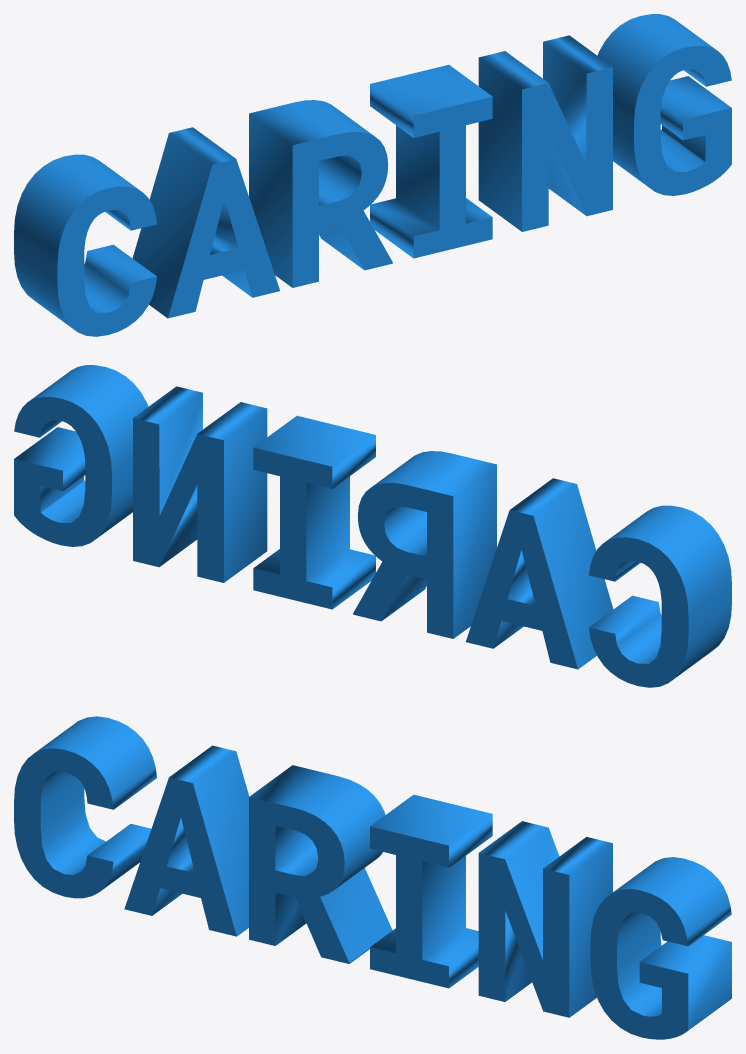
File: Caring.fbx
3 renders of one model, top to bottom at view 1: azimuth 30°, elevation 25°; view 2: azimuth 150°, elevation 25°; view 3: azimuth 330°, elevation 25°, orthographic.
Visible parts, largest first — view 1: $ColladaAutoName$_1; view 2: $ColladaAutoName$_1; view 3: $ColladaAutoName$_1.
Part boxes in pixels (x1=…): $ColladaAutoName$_1: x1=14, y1=14, x2=731, y2=336; $ColladaAutoName$_1: x1=14, y1=365, x2=731, y2=687; $ColladaAutoName$_1: x1=14, y1=716, x2=731, y2=1039.
Size of the model in its own units: 488 by 102 by 54.5.
